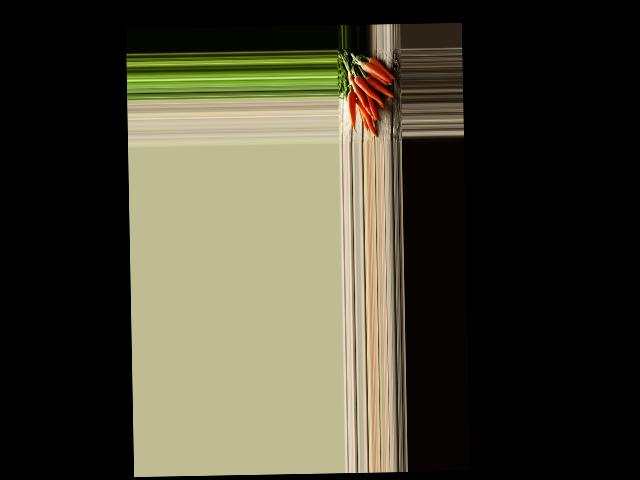carrot: (344, 92, 357, 129)
